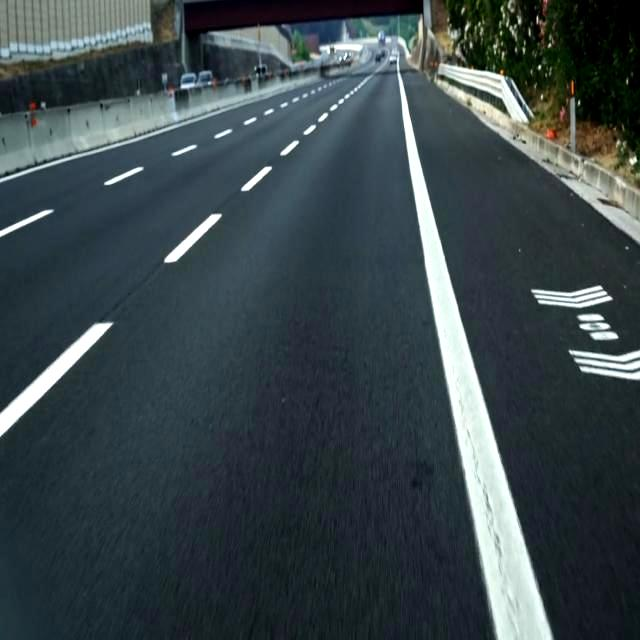lane: (398, 70, 552, 640), (0, 322, 111, 436), (165, 214, 218, 262), (1, 209, 54, 237), (104, 166, 144, 186), (241, 166, 271, 191), (280, 140, 299, 156), (171, 145, 198, 156)
road: (0, 65, 495, 639), (403, 72, 639, 639)
